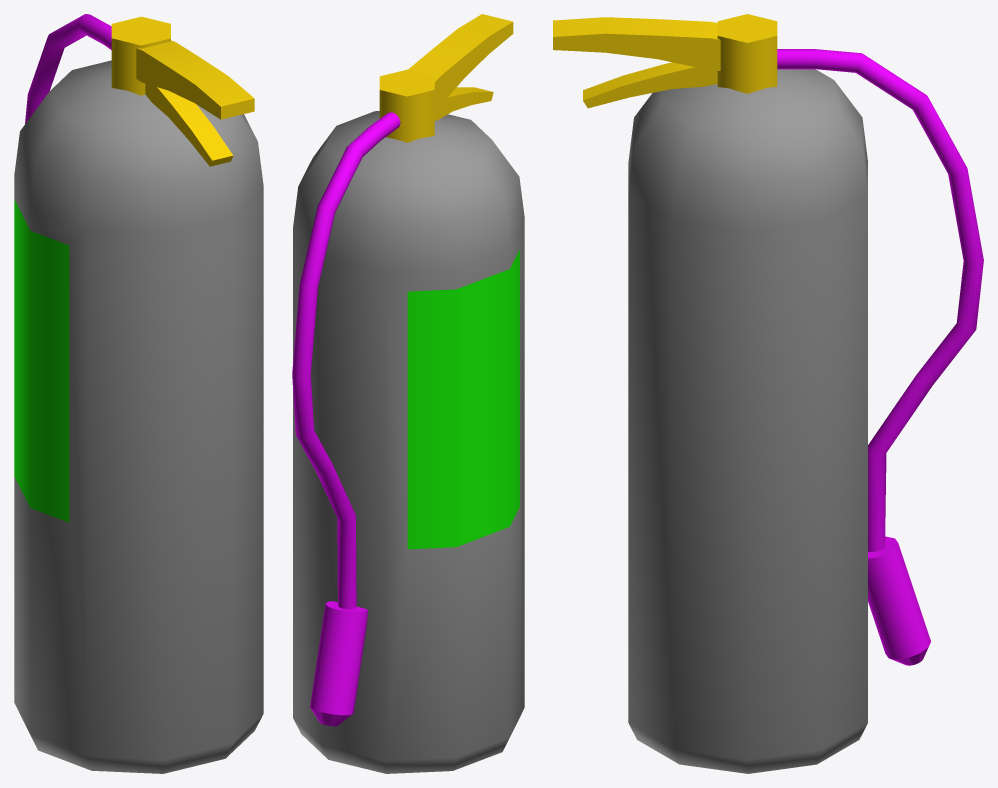
File: Stopfire.FBX
3 views of the same model, side by side, from view 1: azimuth 30°, elevation 25°; view 2: azimuth 150°, elevation 25°; view 3: azimuth 270°, elevation 25° (orthographic). The views are drawn at different scales.
Parts seen in each view (by area): view 1: Cylinder016; view 2: Cylinder016; view 3: Cylinder016.
Part boxes in pixels (x1,y1,x2,y2): Cylinder016: (14, 14, 263, 773); Cylinder016: (292, 14, 524, 773); Cylinder016: (553, 14, 983, 773).
Bounding box in the file's own units: 12.5 × 38.31 × 21.38.
